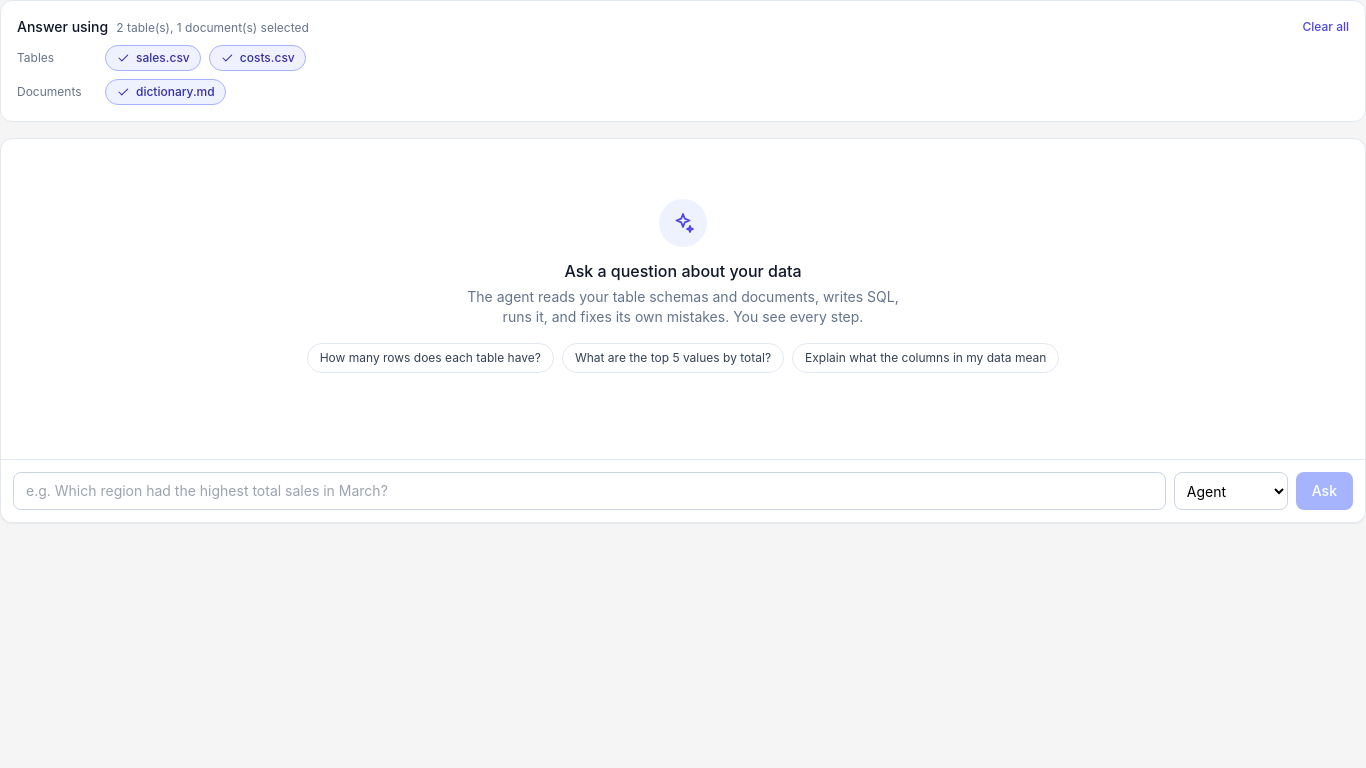
Test case: blocks asking when nothing is selected, and keeps a locked table
Click the button "Clear all": point(1326, 27) x1=1302 y1=19 x2=1349 y2=35
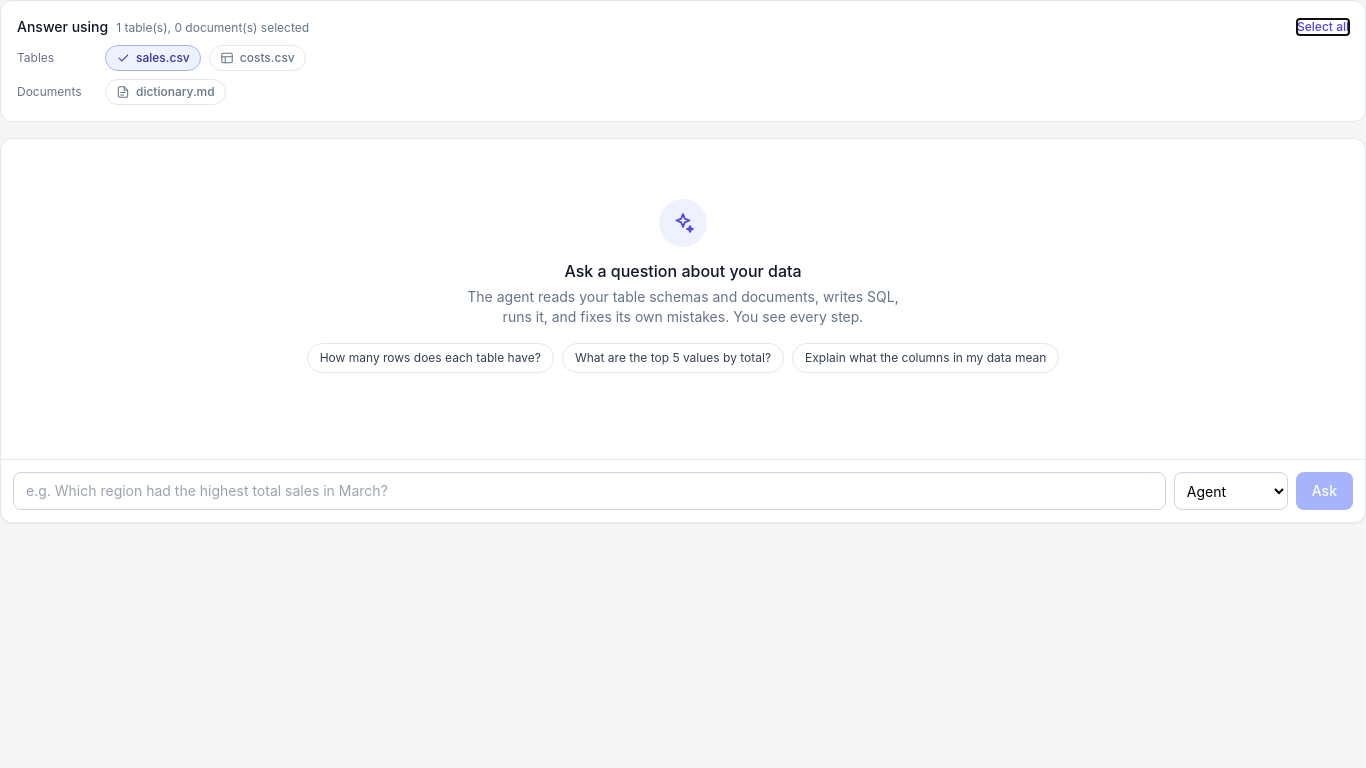
Expected: the button "sales.csv" is disabled, x1=105 y1=45 x2=201 y2=71
Expected: the text "1 table(s), 0 document(s) selected" is shown, x1=116 y1=20 x2=309 y2=35
